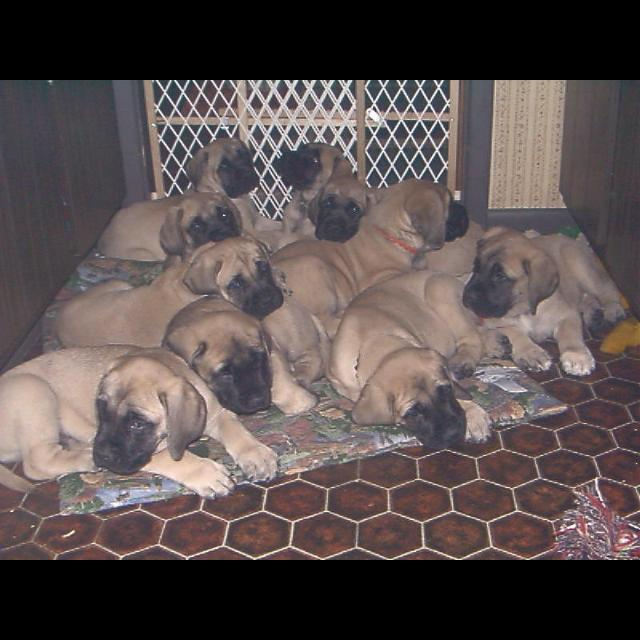mastiff: (1, 345, 279, 502), (332, 272, 516, 450), (255, 181, 473, 320), (463, 225, 628, 377), (56, 238, 284, 348), (95, 138, 284, 264), (165, 296, 334, 416), (261, 145, 356, 262), (160, 193, 246, 275), (308, 176, 380, 244)
